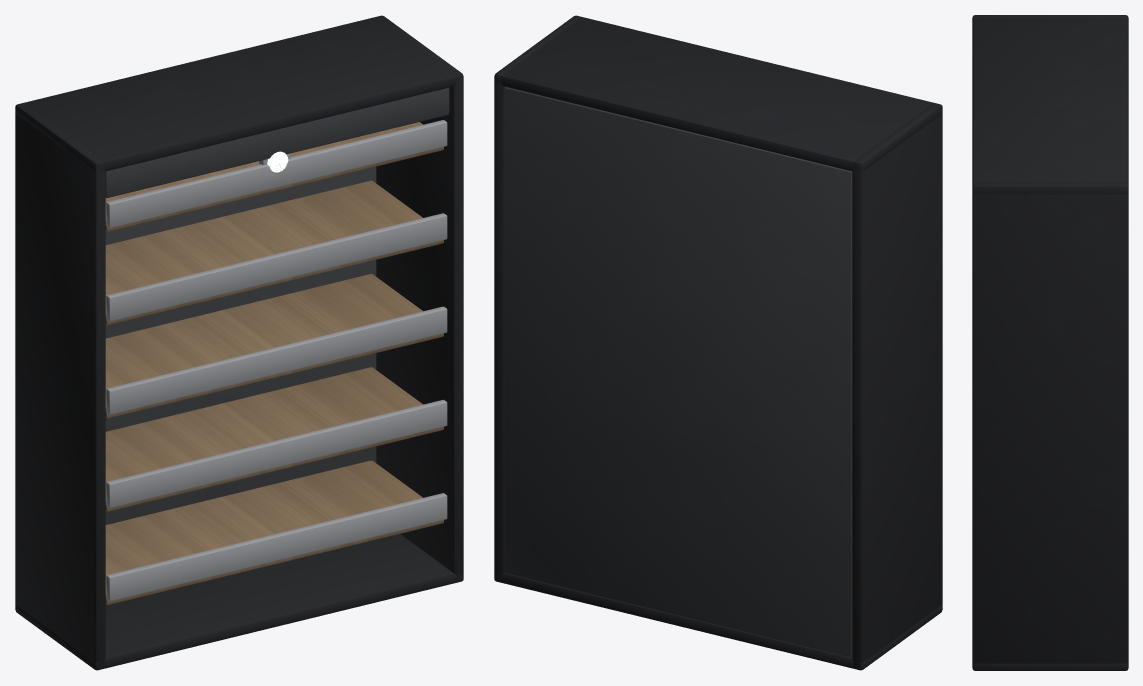
File: pf_display_ball_display_t2.glb
3 renders of one model, left to right at view 1: azimuth 30°, elevation 25°; view 2: azimuth 150°, elevation 25°; view 3: azimuth 270°, elevation 25°, orthographic. The views are drawn at different scales.
Parts seen in each view (by area): view 1: Case_Left, Case_Top, Case_Right, Case_Base, Shelf_02, Shelf_03, Shelf_01, Shelf_04, Case_Back, Header_Back, Shelf_Lip_03, Shelf_Lip_01 (+4 smaller); view 2: Case_Back, Case_Left, Case_Top, Case_Right, Case_Base; view 3: Case_Right, Case_Top, Case_Base, Case_Left.
Boxes of the visible parts, <box> form: Case_Left: <box>15,103,105,668</box>; Case_Top: <box>15,17,461,171</box>; Case_Right: <box>376,15,463,582</box>; Case_Base: <box>15,534,463,670</box>; Shelf_02: <box>105,367,443,511</box>; Shelf_03: <box>105,274,443,418</box>; Shelf_01: <box>105,460,443,604</box>; Shelf_04: <box>105,180,443,325</box>; Case_Back: <box>105,166,376,524</box>; Header_Back: <box>105,87,449,197</box>; Shelf_Lip_03: <box>106,306,447,414</box>; Shelf_Lip_01: <box>106,493,447,601</box>; Case_Back: <box>504,87,852,657</box>; Case_Left: <box>852,103,942,669</box>; Case_Top: <box>494,17,942,171</box>; Case_Right: <box>494,15,581,580</box>; Case_Base: <box>494,573,942,670</box>; Case_Right: <box>972,182,1128,665</box>; Case_Top: <box>972,18,1128,194</box>; Case_Base: <box>972,663,1128,670</box>; Case_Left: <box>972,15,1128,19</box>.
Bounding box in the file's own units: 1.2 × 1.58 × 0.46.
6 materials, 3 textured.
